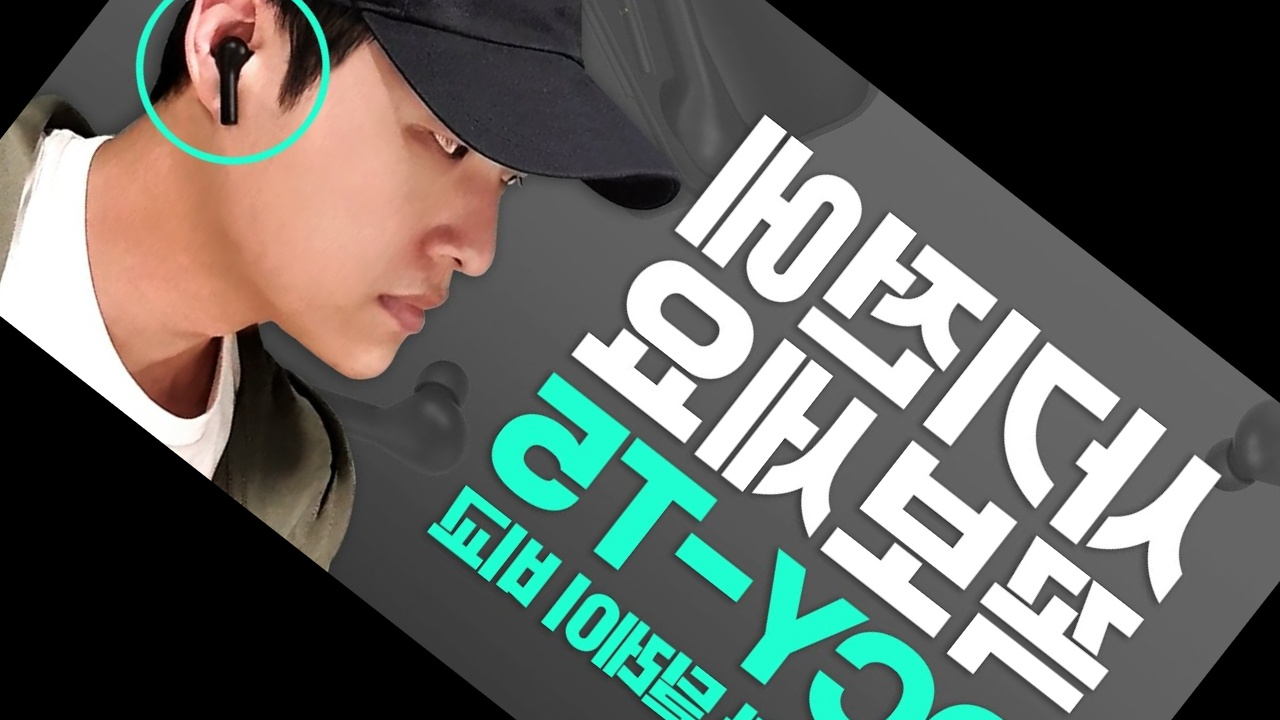earphone: (141, 0, 316, 133)
